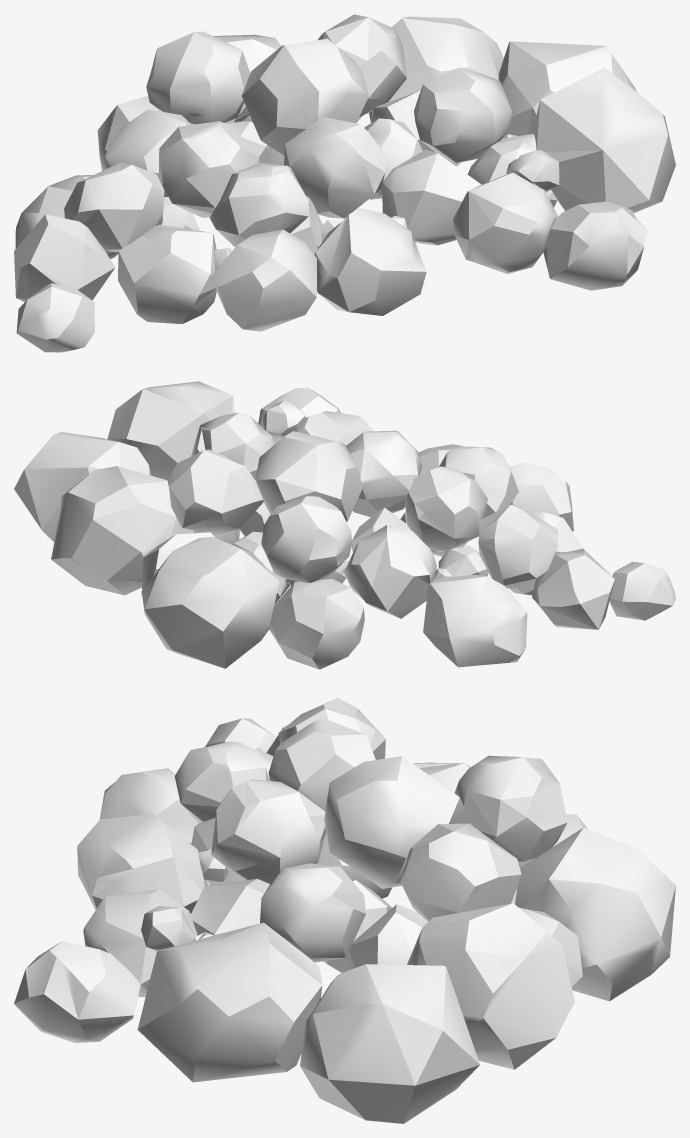
Rendered from cloudB.glb.
3 renders of one model, top to bottom at view 1: azimuth 30°, elevation 25°; view 2: azimuth 150°, elevation 25°; view 3: azimuth 270°, elevation 25°, orthographic. The views are drawn at different scales.
Bounding box in the file's own units: 1.9 × 0.507 × 1.44.
Materials: 1 (1 with a texture image).
